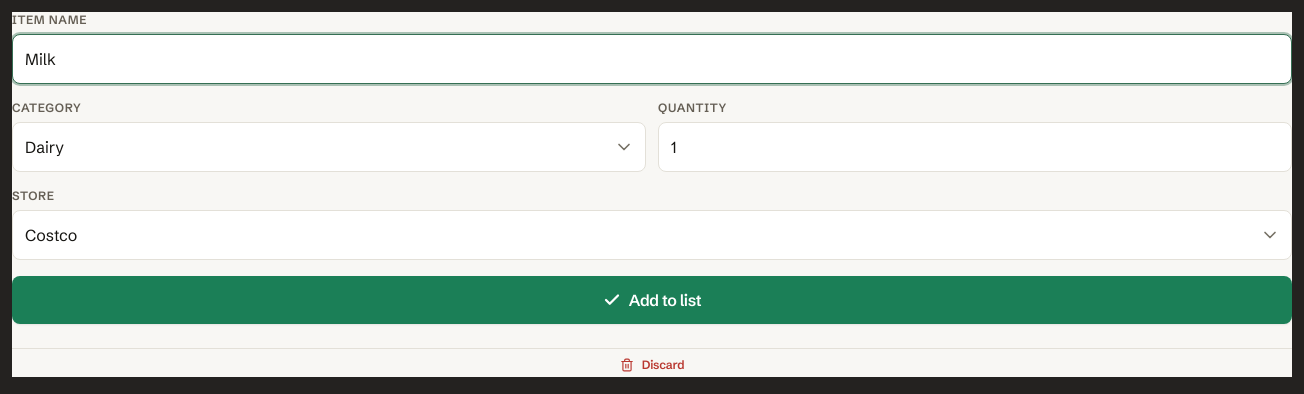
Test: ShoppingReviewForm › disables Add to list when the name is emptied
Clear the field labelled "Item name": (652, 59) [12, 34, 1292, 84]
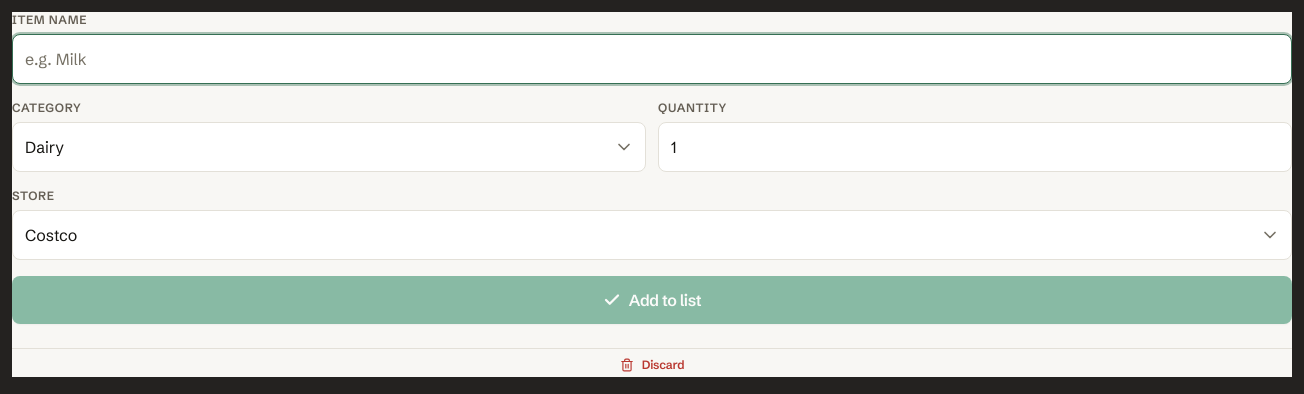
Expected: the button "Add to list" is disabled, [12, 276, 1292, 324]
